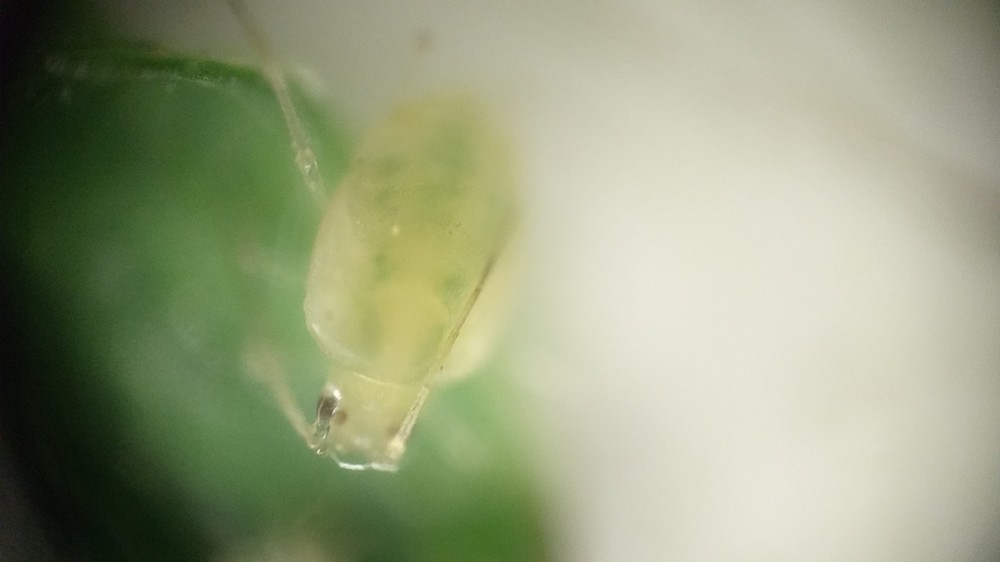Pulgon: (242, 21, 544, 507)
